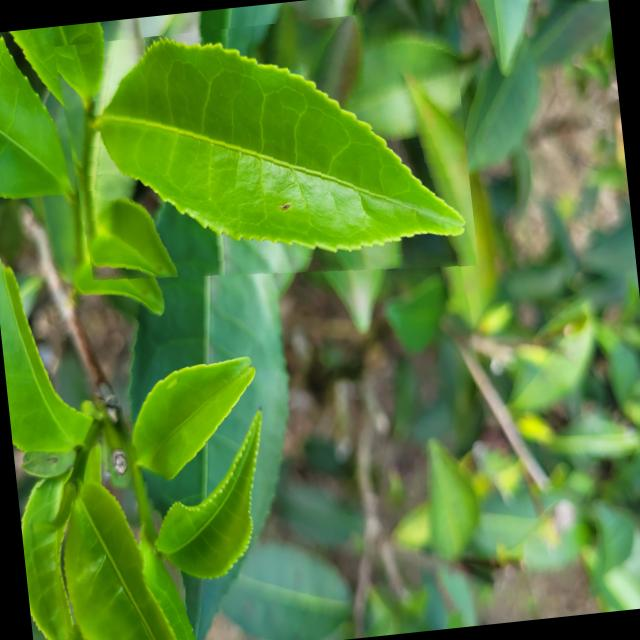Category B(2-4 days): (50, 5, 477, 308)
